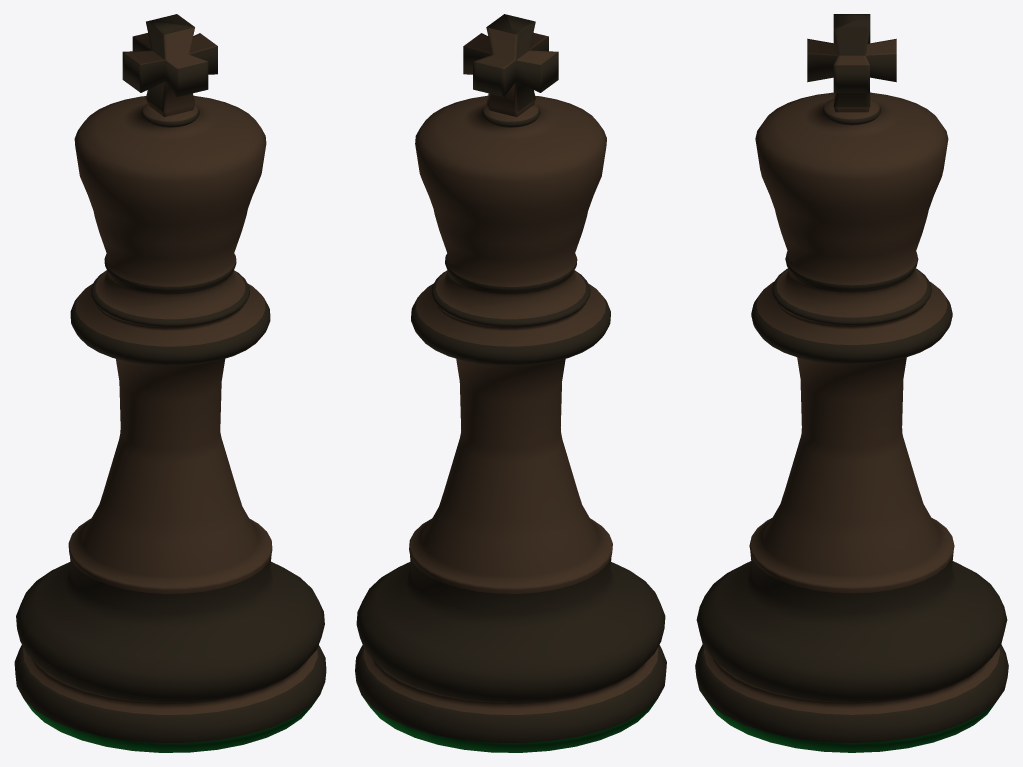
File: KingBlack.fbx
The picture shows the model from 3 angles, left to right: view 1: azimuth 30°, elevation 25°; view 2: azimuth 150°, elevation 25°; view 3: azimuth 270°, elevation 25°; orthographic projection.
Parts seen in each view (by area): view 1: Black King; view 2: Black King; view 3: Black King.
Part boxes in pixels (box(x1,y1,x2,y2)): Black King: box(14, 14, 326, 752); Black King: box(355, 14, 666, 752); Black King: box(695, 14, 1008, 752).
Bounding box in the file's own units: 5.04 × 11.88 × 5.04.
